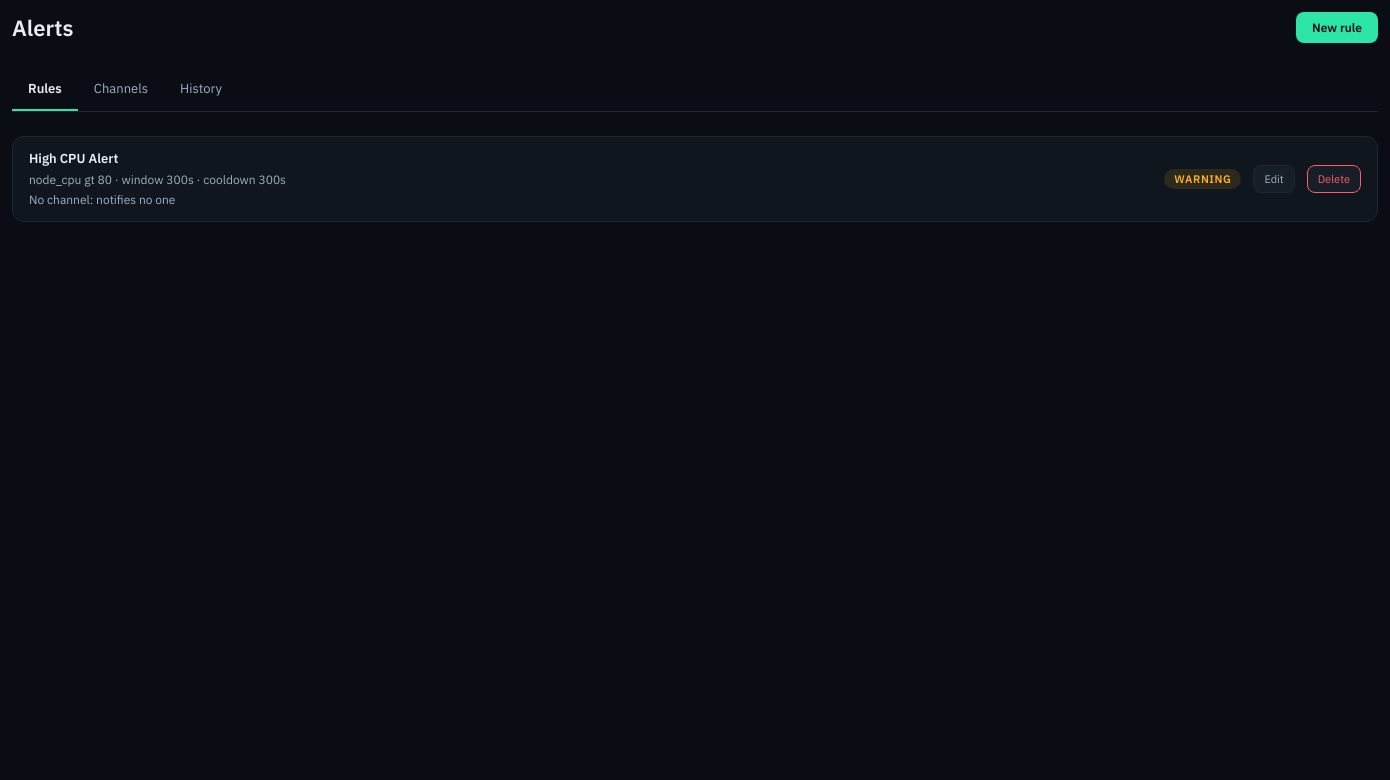
Test: AlertsPage (msw) › cancels the rule form when Cancel is clicked
Expected: the text "High CPU Alert" is shown, [29,150,118,167]
Step 1. Click the button "New rule" → (1337, 28), box [1296,12,1378,43]
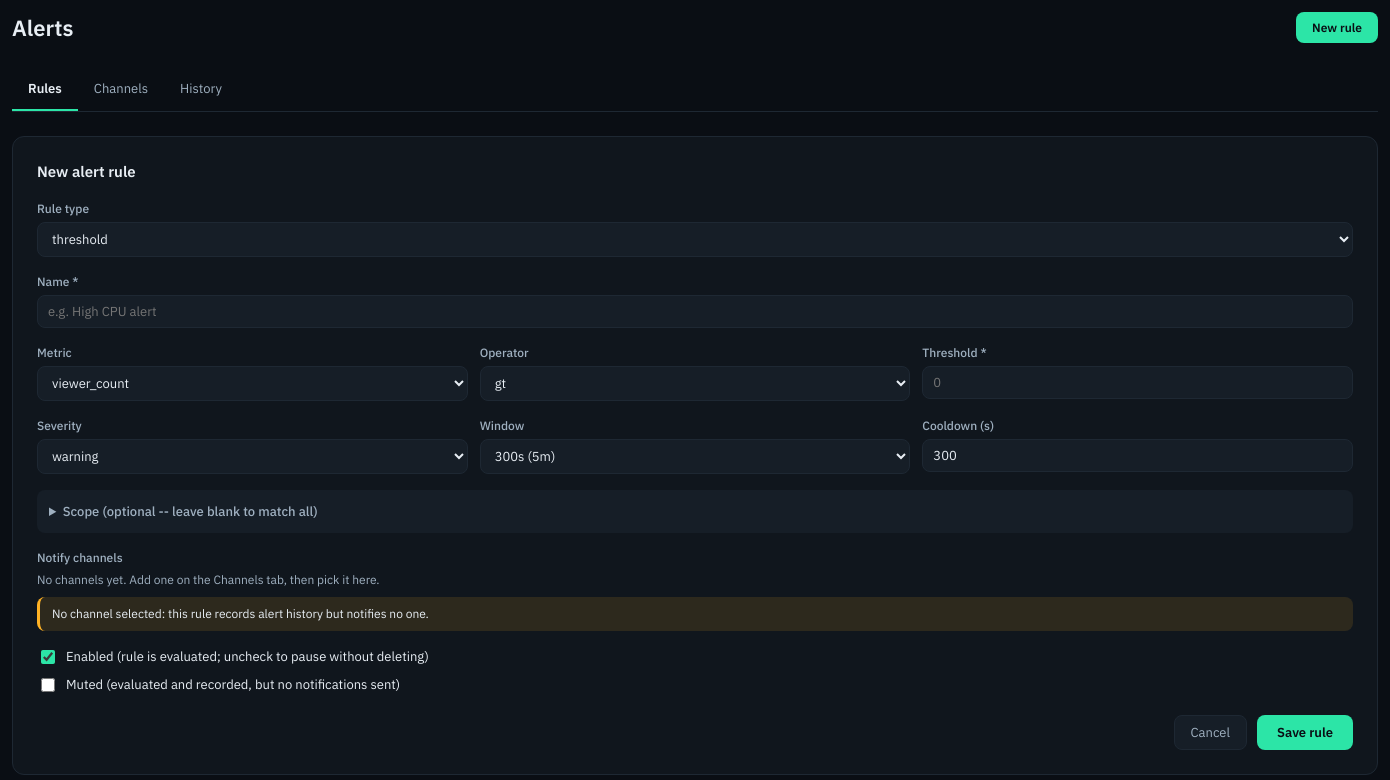
Step 2. Click the button "Cancel" → (1210, 732), box [1174,715,1247,750]
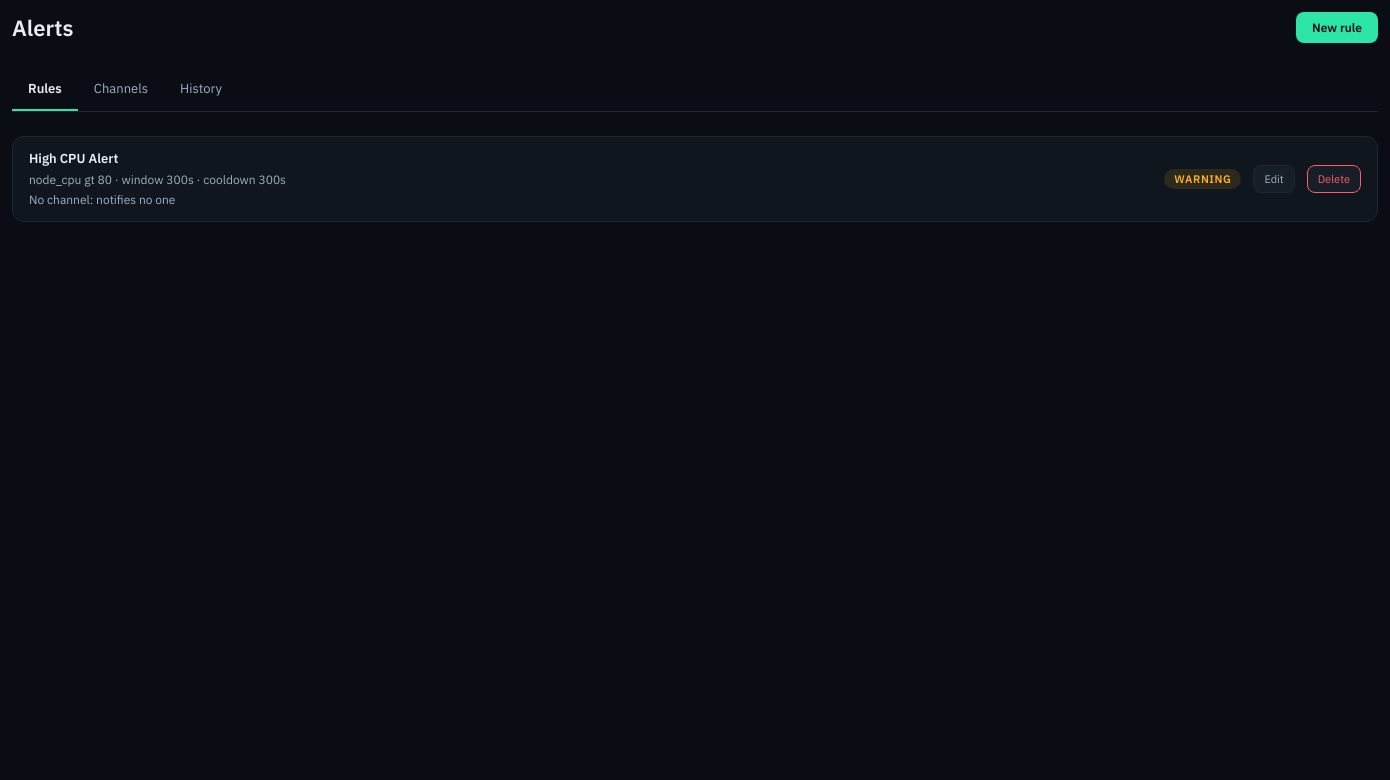
Now the heading "New alert rule" is gone
